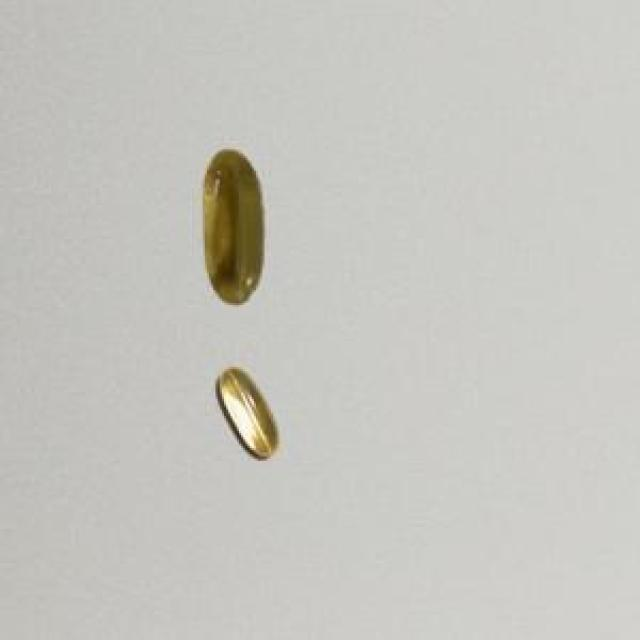Fish_Oil: (183, 140, 279, 321), (206, 354, 290, 473)
